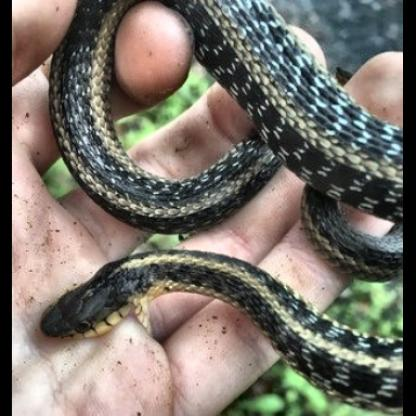Snake: (26, 1, 403, 414)
